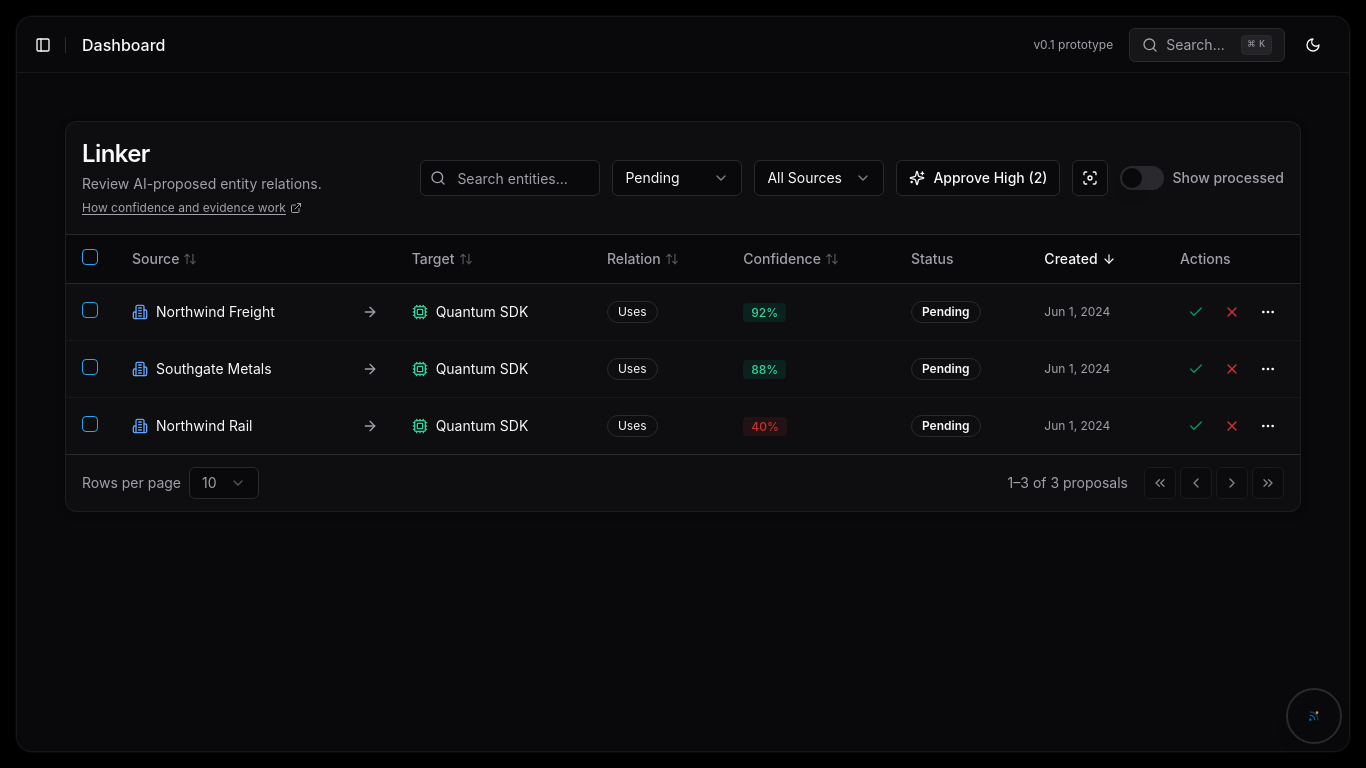
Test: LinkerTriagePage — Approve High is bounded by the visible scope › counts only the high-confidence proposals inside the active search
Check: the button "Approve High (2)" is shown, box [896,160,1060,196]
Type "Northwind" into the field with placeholder "Search entities..." at x=510, y=178, box [420,160,600,196]
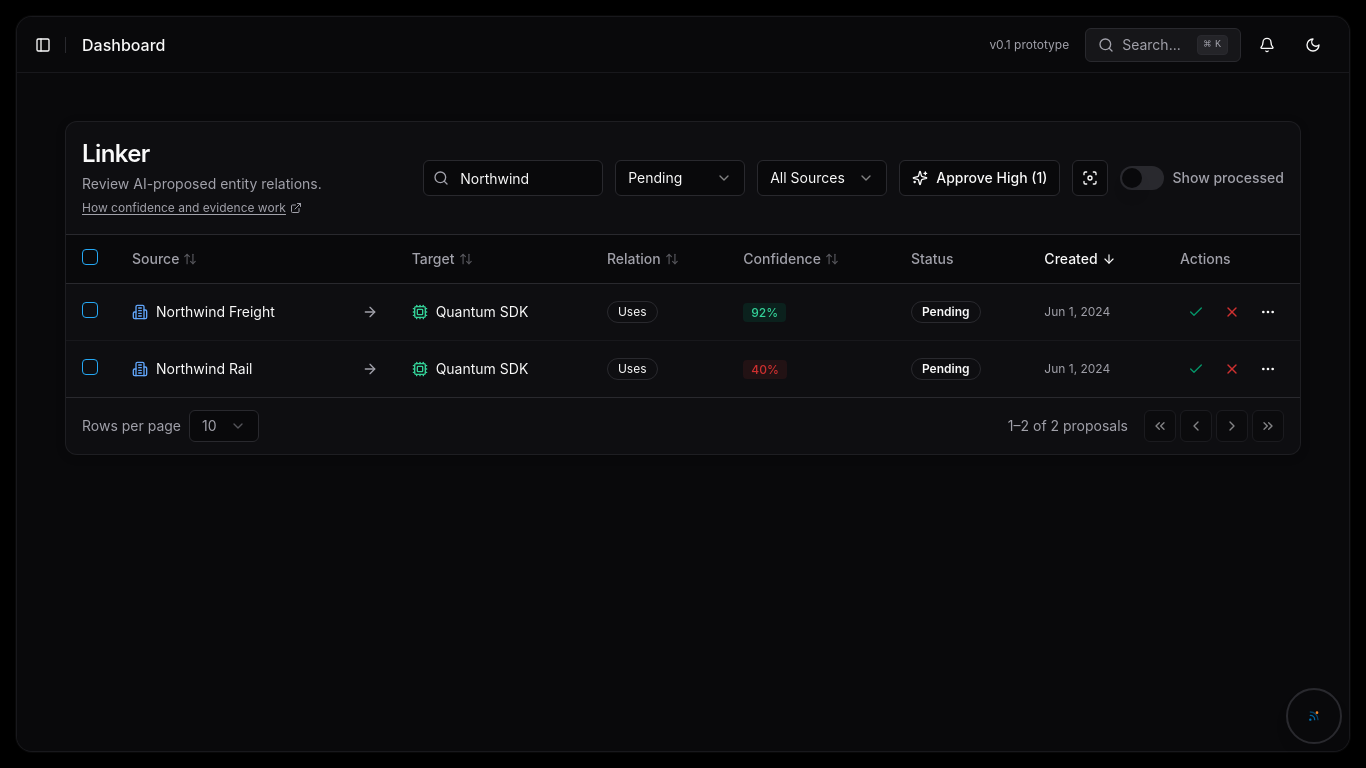
Check: the button "Approve High (1)" is shown, box [899,160,1060,196]
